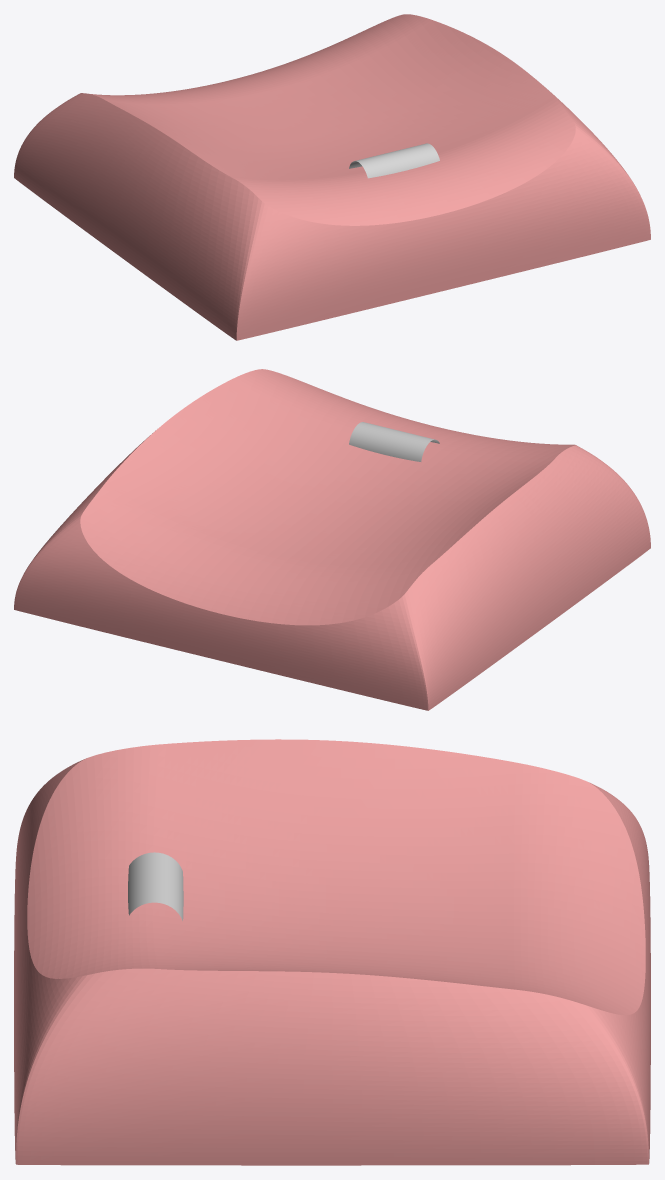
The model's file is Chicago-R3-1u-Homing.gltf.
3 renders of one model, top to bottom at view 1: azimuth 30°, elevation 25°; view 2: azimuth 150°, elevation 25°; view 3: azimuth 270°, elevation 25°, orthographic. The views are drawn at different scales.
Parts seen in each view (by area): view 1: object 1, object 2; view 2: object 1, object 2; view 3: object 1, object 2.
Boxes of the visible parts, x1,y1,x2,y2 form: object 1: (14,14,650,340); object 2: (349,143,439,178); object 1: (14,369,650,710); object 2: (349,422,439,461); object 1: (14,739,650,1165); object 2: (128,852,183,920).
Size of the model in its own units: 1.73 by 0.6217 by 1.61.
